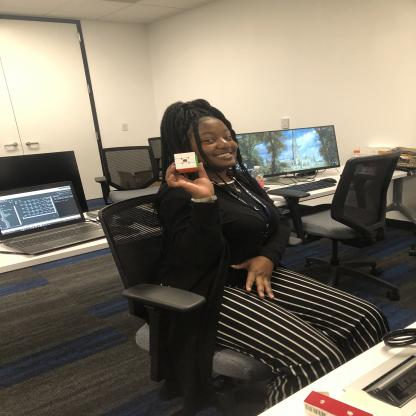SolvedCube: (172, 150, 198, 173)
